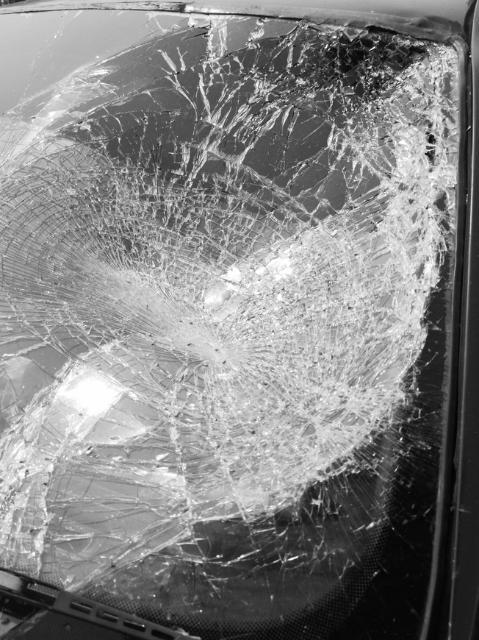Windshield: (6, 0, 479, 625)
